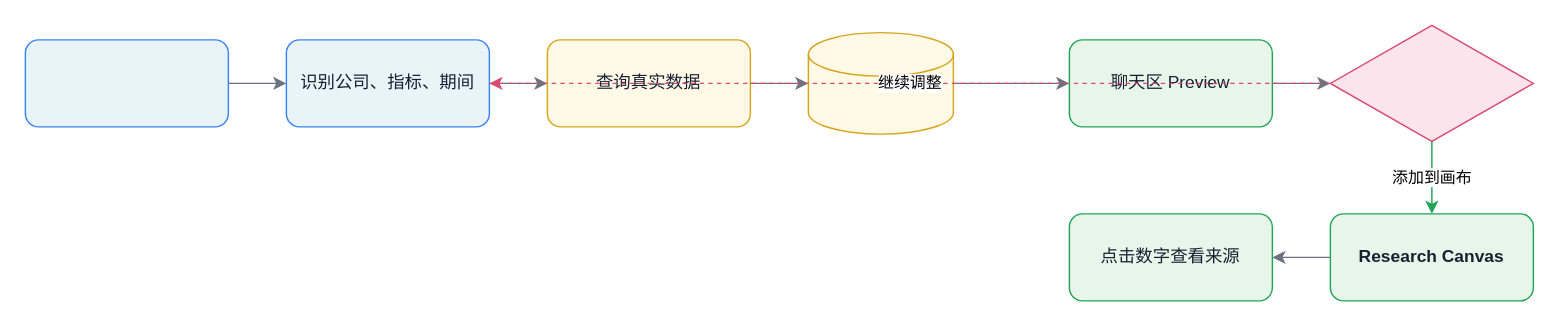
The diagram is 1559 pixels wide and 326 high, and some of its shapes have lost their labels. The box of each missing label's shape, as (x1, y1, x2, y2) in pixels:
生成 Dataset: (807, 31, 953, 134)
用户确认?: (1329, 24, 1533, 141)
自然语言提问: (24, 38, 228, 127)
